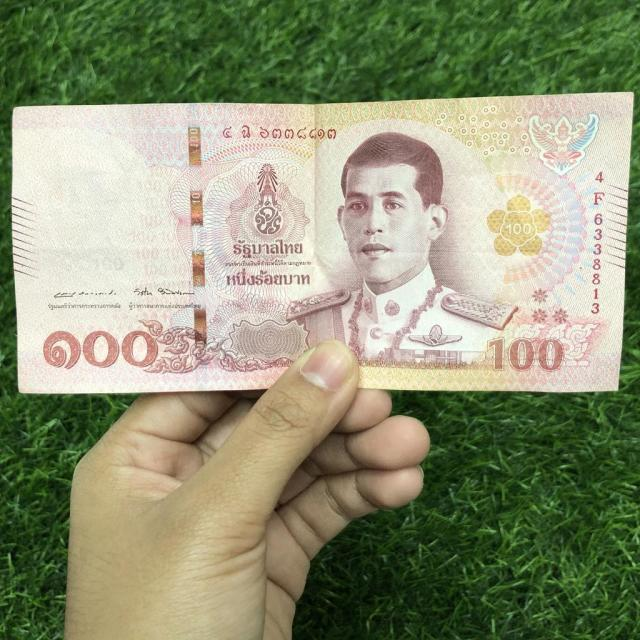THAI100: (11, 93, 636, 399)
